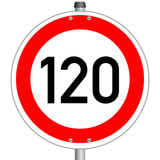Speed_limit_120km: (9, 11, 150, 150)
